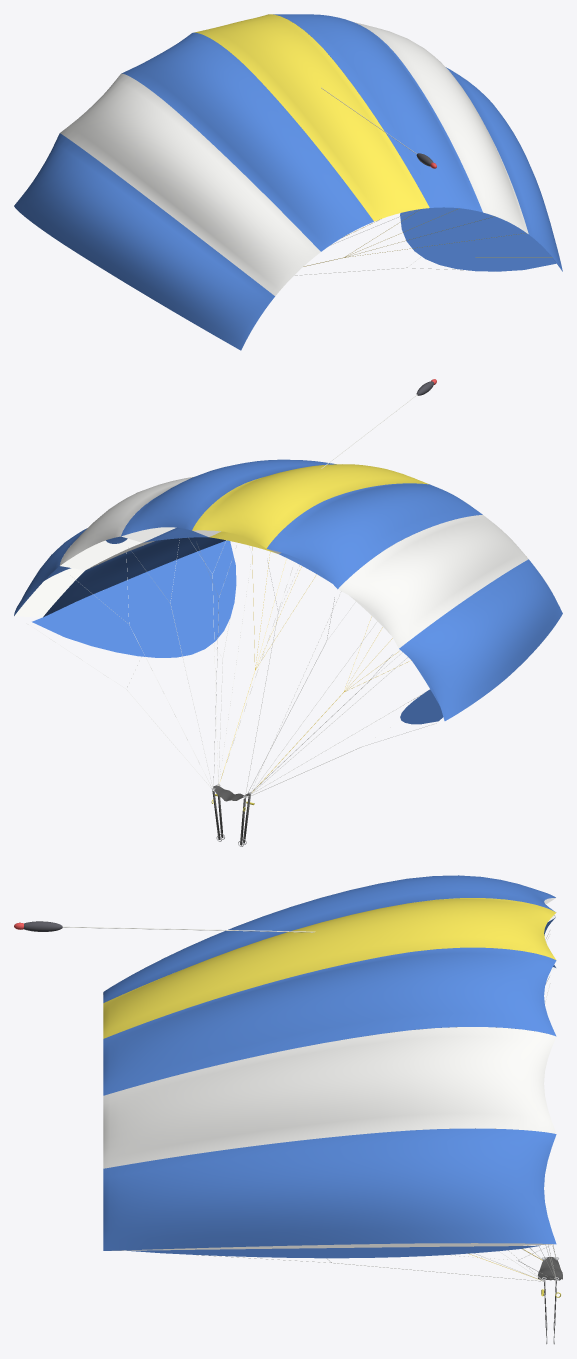
File: PD_Zero_255.glb
The picture shows the model from 3 angles, top to bottom: view 1: azimuth 30°, elevation 25°; view 2: azimuth 150°, elevation 25°; view 3: azimuth 270°, elevation 25°; orthographic projection. The views are drawn at different scales.
Visible parts, largest first — view 1: TopSkin, Stabilizers, SteeringLines; view 2: TopSkin, Stabilizers, BottomSkin, Ribs, Lines, SteeringLines, Risers; view 3: TopSkin, Stabilizers, Ribs, PilotChute, Lines.
Boxes of the visible parts, x1,y1,x2,y2 form: TopSkin: (14,14,562,350); Stabilizers: (400,207,556,271); SteeringLines: (303,208,552,266); TopSkin: (14,459,562,720); Stabilizers: (32,540,443,724); BottomSkin: (43,527,439,705); Ribs: (14,483,401,617); Lines: (28,540,436,798); SteeringLines: (220,546,411,792); Risers: (211,786,254,846); TopSkin: (103,875,556,1250); Stabilizers: (127,1245,540,1258); Ribs: (112,891,556,1250); PilotChute: (14,921,315,932); Lines: (196,930,556,1281).
Size of the model in its own units: 5.42 by 3.75 by 4.38.
